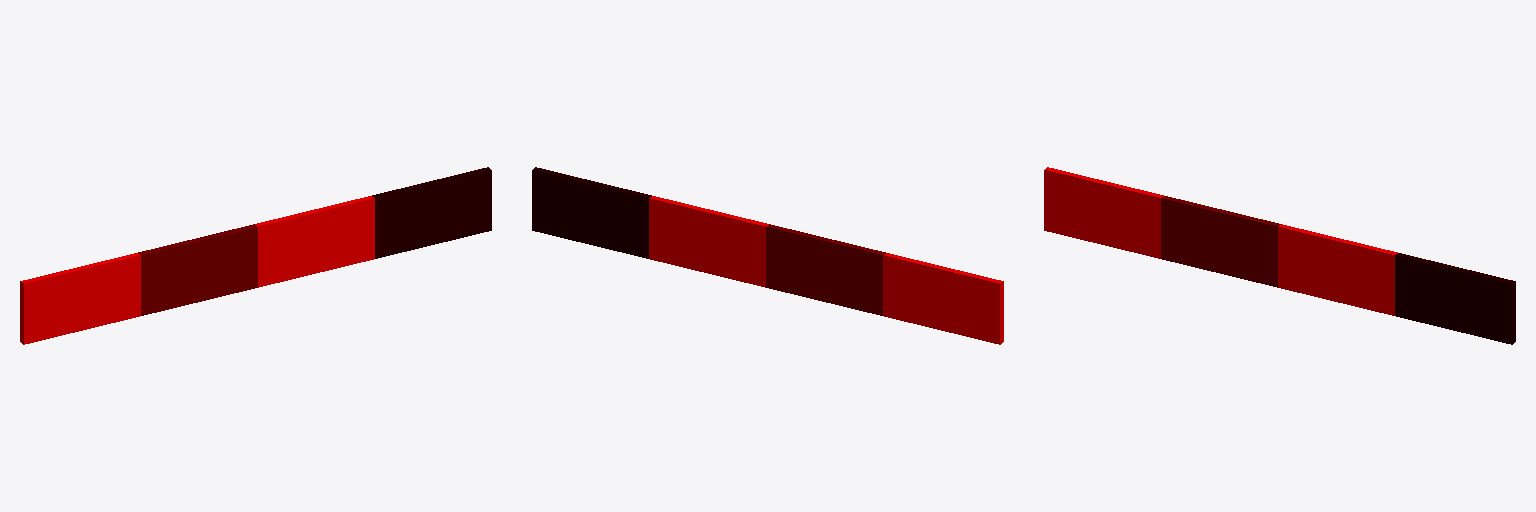
robot.urdf — left_wall:
<?xml version="1.0" ?>
<robot name="left_wall" xmlns:xacro="http://www.ros.org/wiki/xacro">
    <link name="wall_link1">
        <inertial>
            <origin rpy="0 0 0" xyz="0 1 0"/>
            <mass value=".1"/>
            <inertia ixx="0" ixy="0" ixz="0" iyy="0" iyz="0" izz="0"/>
        </inertial>
        <visual>
            <origin rpy="0 0 0" xyz="0 1 0.25"/>
            <geometry>
                <box size="1.0 0.05 0.5"/>
            </geometry>
            <material name='red'>
                <color rgba="1.0 0.0 0.0 1.0"/>
            </material>
        </visual>
        <visual>
            <origin rpy="0 0 0" xyz="1 1 0.25"/>
            <geometry>
                <box size="1.0 0.05 0.5"/>
            </geometry>
            <material name='dark_red'>
                <color rgba="0.5 0.0 0.0 1.0"/>
            </material>
        </visual>
        <visual>
            <origin rpy="0 0 0" xyz="2 1 0.25"/>
            <geometry>
                <box size="1.0 0.05 0.5"/>
            </geometry>
            <material name='reda'>
                <color rgba="1.0 0.0 0.0 1.0"/>
            </material>
        </visual>
        <visual>
            <origin rpy="0 0 0" xyz="3 1 0.25"/>
            <geometry>
                <box size="1.0 0.05 0.5"/>
            </geometry>
            <material name='dark_reda'>
                <color rgba="0.2 0.0 0.0 1.0"/>
            </material>
        </visual>
    </link>
</robot>

--- What the picture shows (computed from the rendered views, not written in the file) ---
The picture shows the robot from 3 angles, left to right: view 1: azimuth 30°, elevation 25°; view 2: azimuth 150°, elevation 25°; view 3: azimuth 330°, elevation 25°; orthographic projection.
Model left_wall with 1 links and 0 joints (none), rooted at wall_link1, posed all joints at 0.
Links seen in each view (by area): view 1: wall_link1; view 2: wall_link1; view 3: wall_link1.
Boxes of the visible links, <box> form: wall_link1: <box>20,167,491,344</box>; wall_link1: <box>532,167,1003,344</box>; wall_link1: <box>1044,167,1515,344</box>.
Size in the robot's own frame: 4 by 0.05 by 0.5 metres.
Geometry: primitives only (box / cylinder / sphere), no mesh files.
